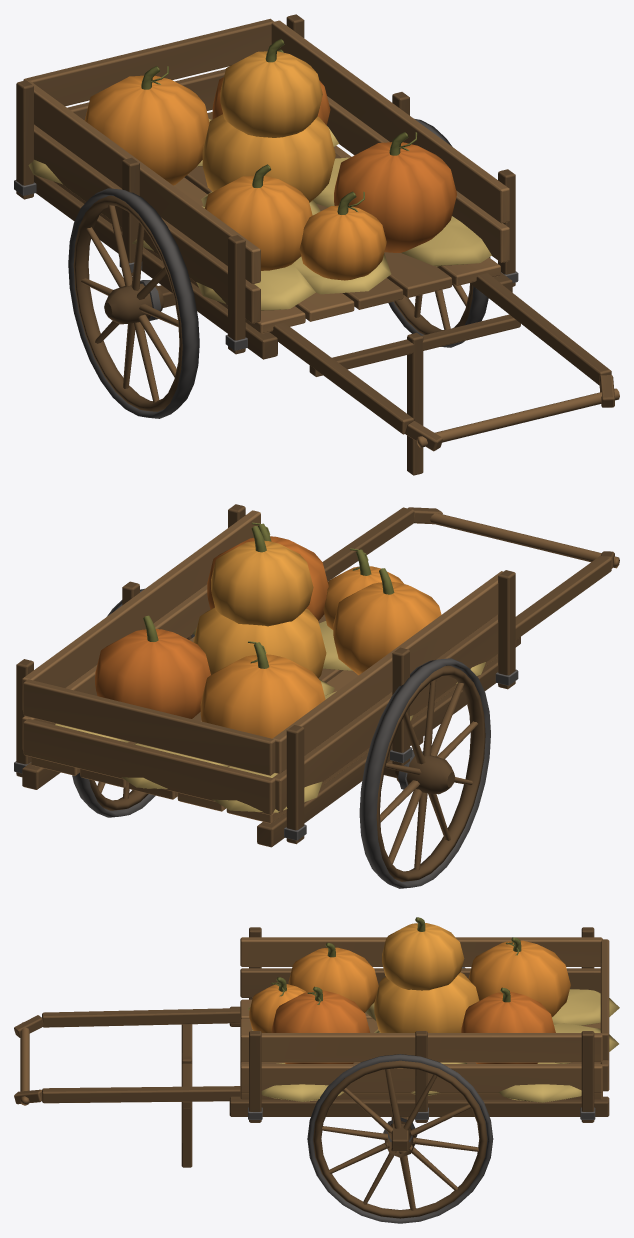
The model's file is cart_hand.glb.
3 views of the same model, one above another, from view 1: azimuth 30°, elevation 25°; view 2: azimuth 150°, elevation 25°; view 3: azimuth 270°, elevation 25° (orthographic). The views are drawn at different scales.
Parts seen in each view (by area): view 1: cart_hand_LOD0; view 2: cart_hand_LOD0; view 3: cart_hand_LOD0.
Boxes of the visible parts, <box> form: cart_hand_LOD0: <box>14,14,619,475</box>; cart_hand_LOD0: <box>14,504,619,888</box>; cart_hand_LOD0: <box>14,917,619,1223</box>.
Size of what is drawn, in the model's own units: 1.46 by 1.32 by 2.84.
